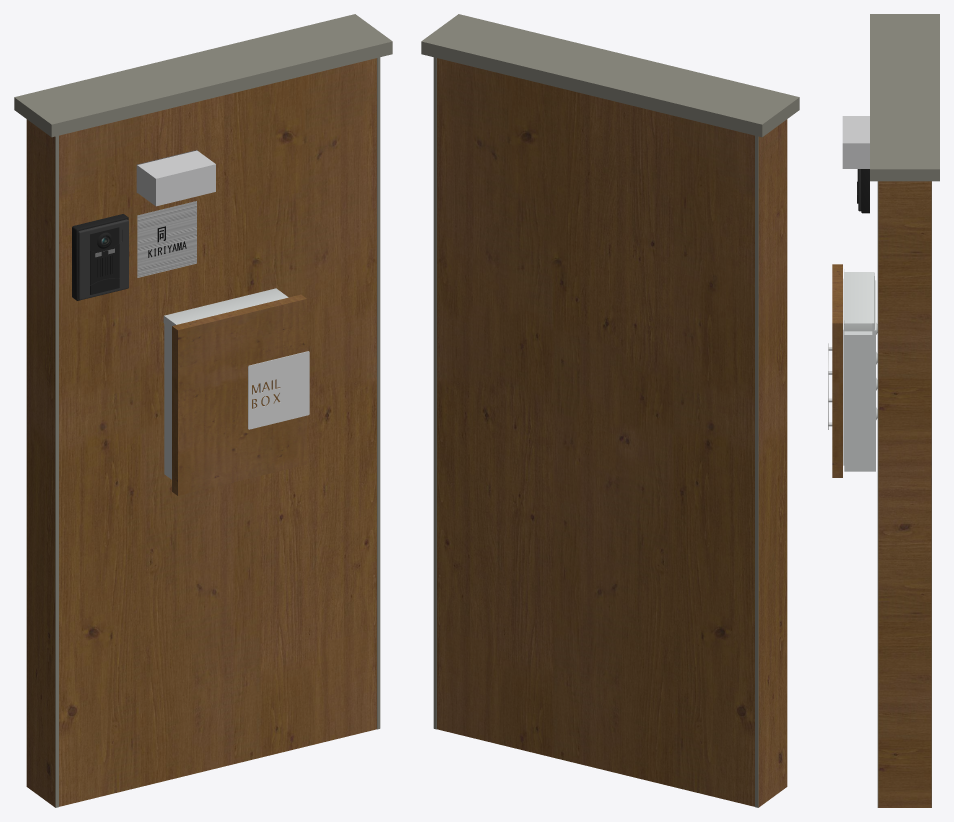
The model's file is abmonchu_w08_naturalpine.fbx.
3 renders of one model, left to right at view 1: azimuth 30°, elevation 25°; view 2: azimuth 150°, elevation 25°; view 3: azimuth 270°, elevation 25°, orthographic. The views are drawn at different scales.
Parts seen in each view (by area): view 1: abmonchu_w08_naturalpine; view 2: abmonchu_w08_naturalpine; view 3: abmonchu_w08_naturalpine.
Part boxes in pixels (x1,y1,x2,y2): abmonchu_w08_naturalpine: [14, 14, 392, 807]; abmonchu_w08_naturalpine: [421, 14, 799, 807]; abmonchu_w08_naturalpine: [828, 14, 939, 807].
Bounding box in the file's own units: 84 × 162 × 25.57.
Materials: 14 (8 with a texture image).
